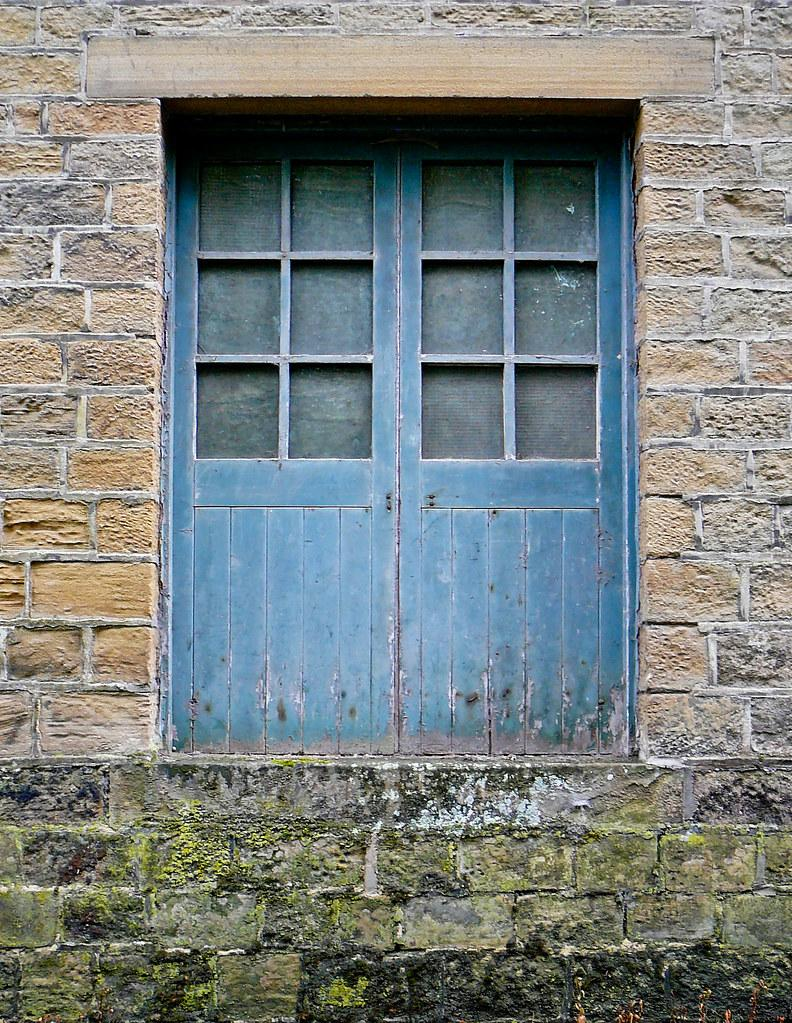door: (167, 112, 637, 759)
